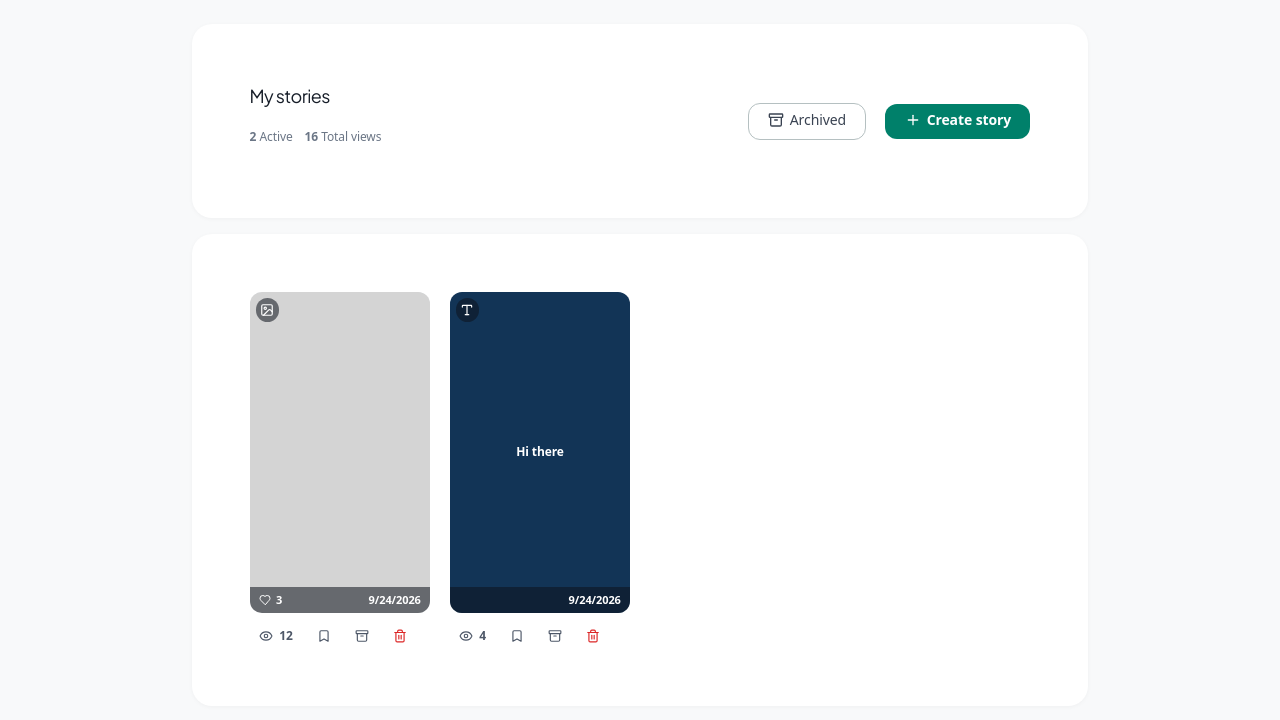
Test case: MyStories › keeps the delete dialog shut when the confirmation is cancelled
Click the button with test id "my-story-delete" at (400, 636), box [383,624,416,648]
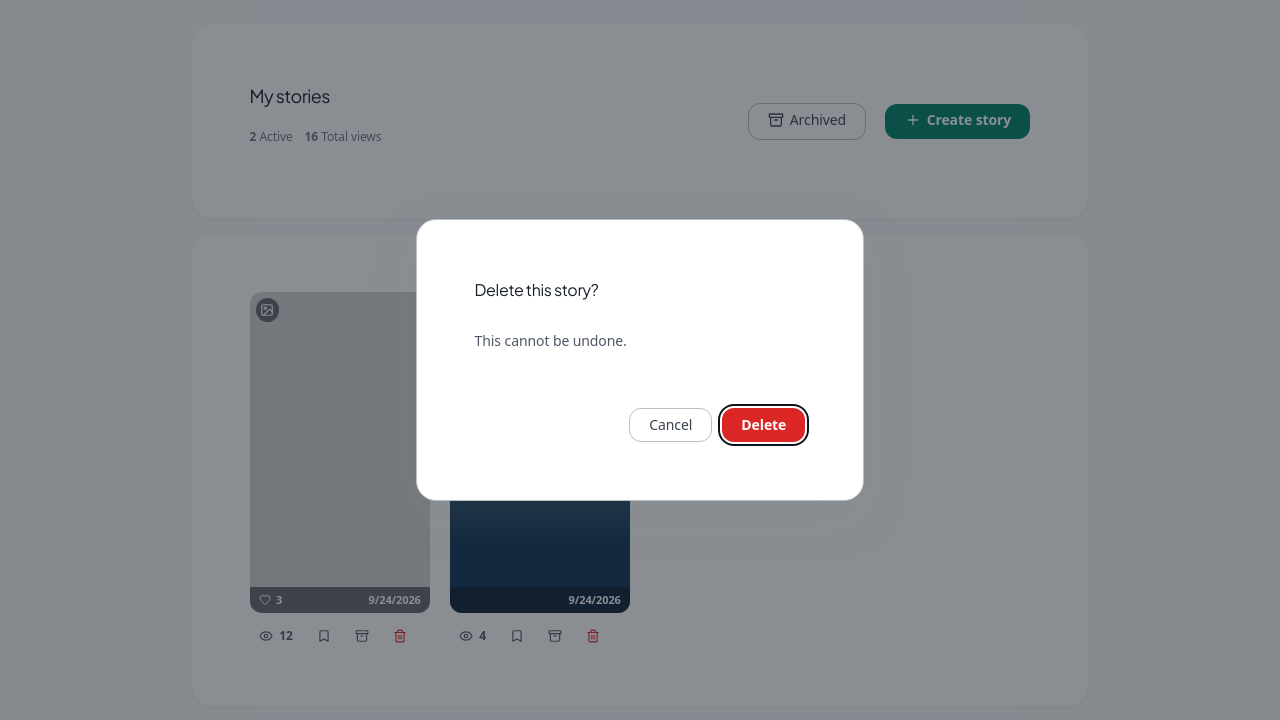
Click the button with test id "confirm-dialog-cancel" at (671, 425), box [629,408,712,442]
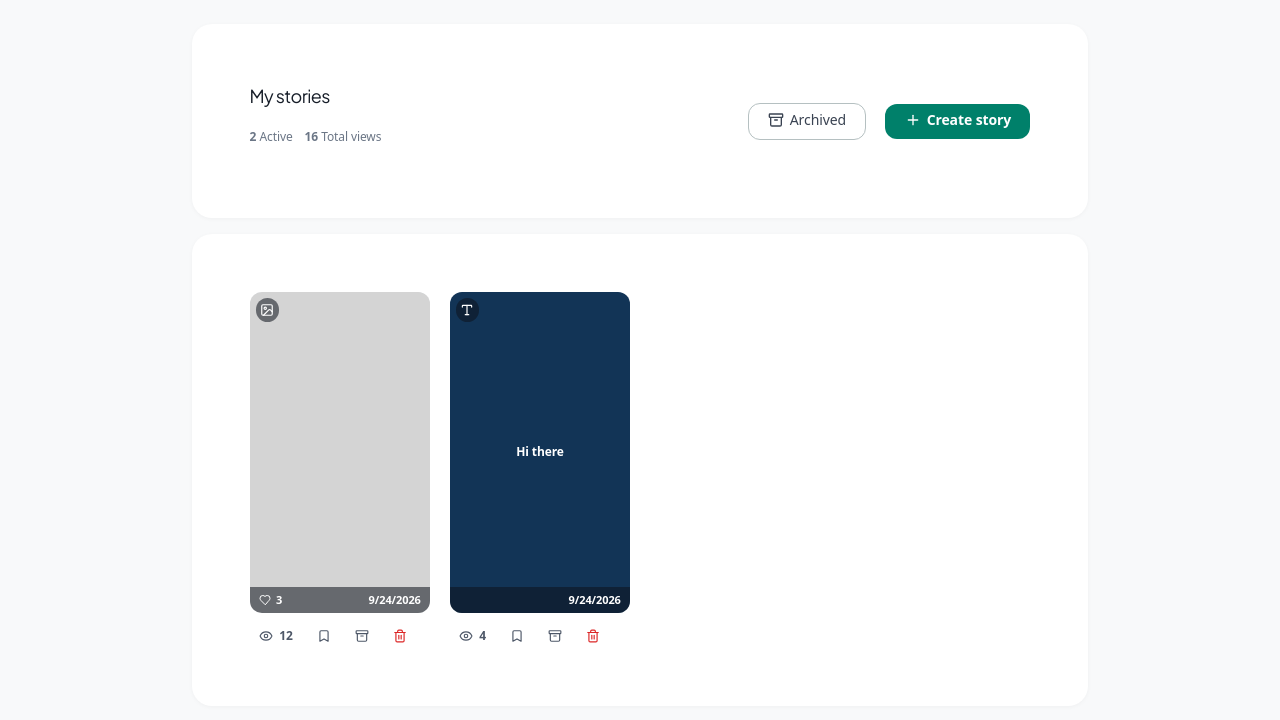
Result: the dialog with test id "confirm-dialog" is gone
